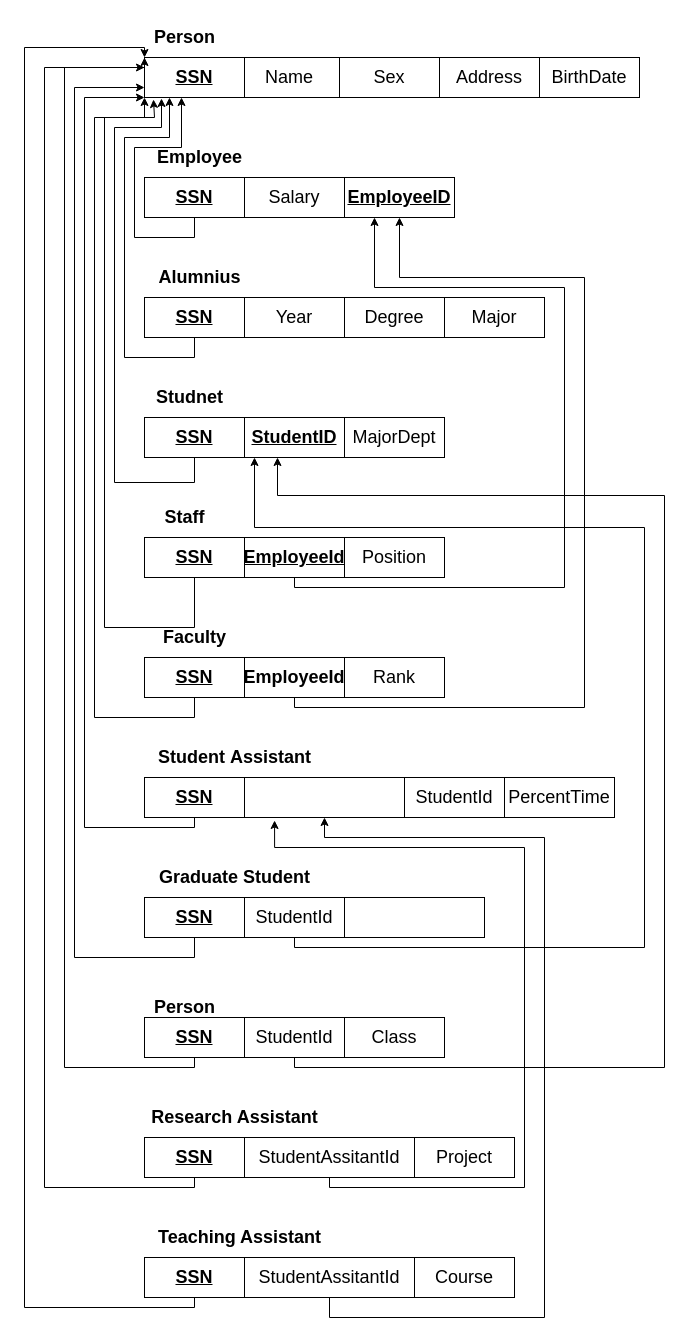
Some shapes in this 690 by 1343 pixel diagram are drawn without their labels. Each missing label, with the centre of its shape:
"DegreeProgram" belongs at pixel 414 917.
"StudentAssistantId" belongs at pixel 324 797.
